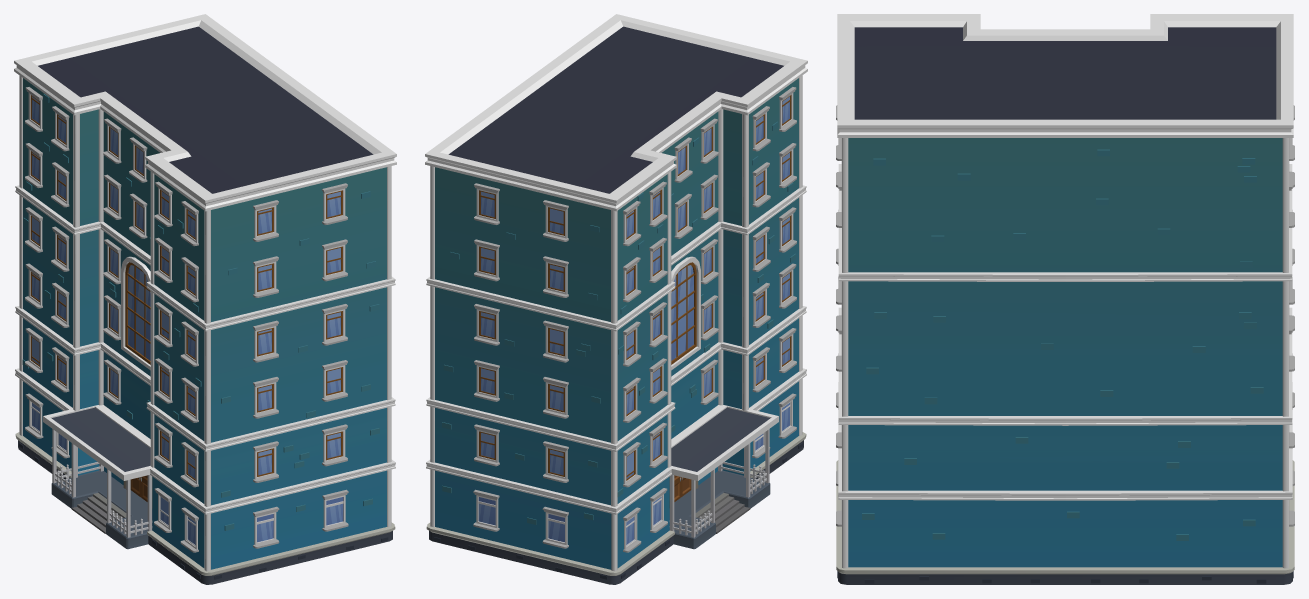
File: Building_5_4_H.fbx
3 views of the same model, side by side, from view 1: azimuth 30°, elevation 25°; view 2: azimuth 150°, elevation 25°; view 3: azimuth 270°, elevation 25° (orthographic). The views are drawn at different scales.
Parts seen in each view (by area): view 1: Building_5_4_H; view 2: Building_5_4_H; view 3: Building_5_4_H.
Part boxes in pixels (x1,y1,x2,y2): Building_5_4_H: (14, 14, 396, 584); Building_5_4_H: (425, 14, 807, 584); Building_5_4_H: (836, 14, 1294, 584).
Size of the model in its own units: 1251 by 2109 by 1908.
